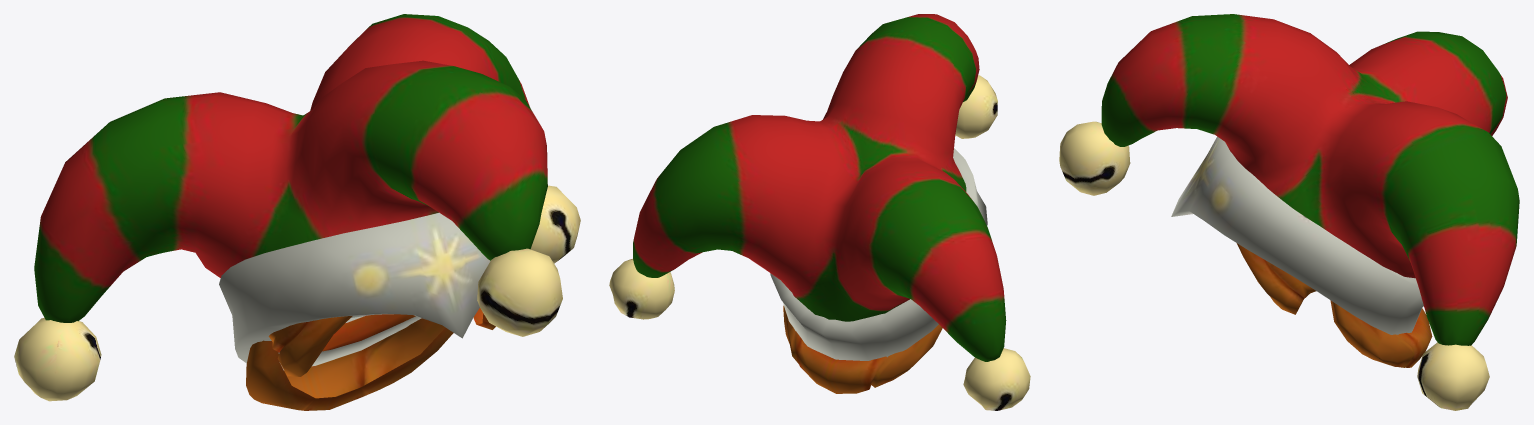
3 views of the same model, side by side, from view 1: azimuth 30°, elevation 25°; view 2: azimuth 150°, elevation 25°; view 3: azimuth 270°, elevation 25° (orthographic). The views are drawn at different scales.
Visible parts, largest first — view 1: Wolf3D_Headwear; view 2: Wolf3D_Headwear; view 3: Wolf3D_Headwear.
Boxes of the visible parts, <box> form: Wolf3D_Headwear: <box>14,14,580,410</box>; Wolf3D_Headwear: <box>609,14,1030,410</box>; Wolf3D_Headwear: <box>1059,14,1519,410</box>.
Bounding box in the file's own units: 0.4215 × 0.2968 × 0.3592.
1 material, 1 textured.
